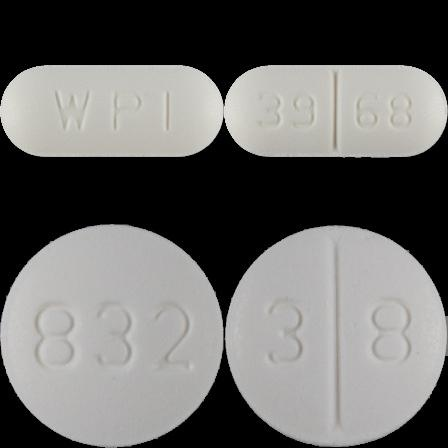50090-0316: (0, 0, 224, 224)
